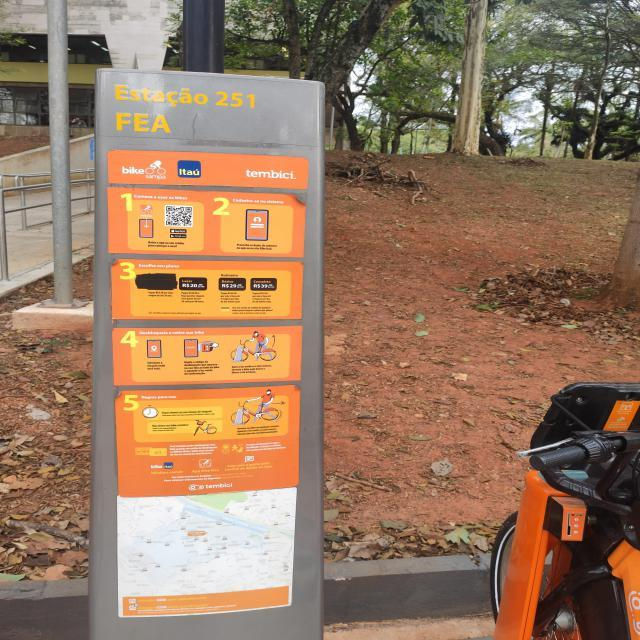qrcode: (167, 207, 193, 227)
